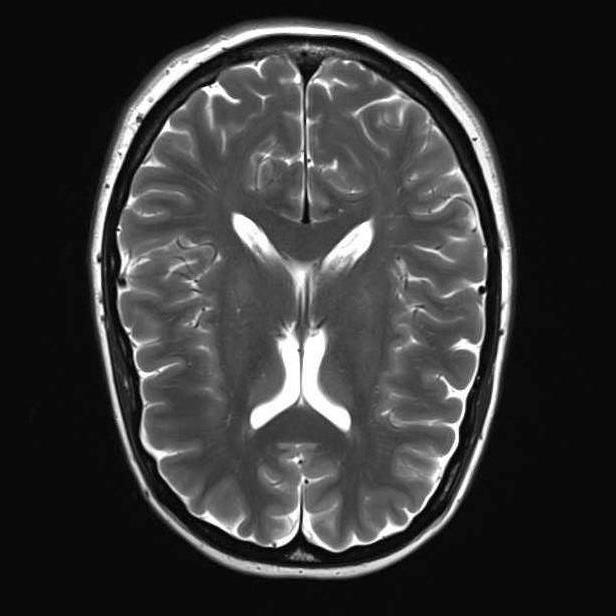Normal_Brain: (41, 1, 600, 601)
